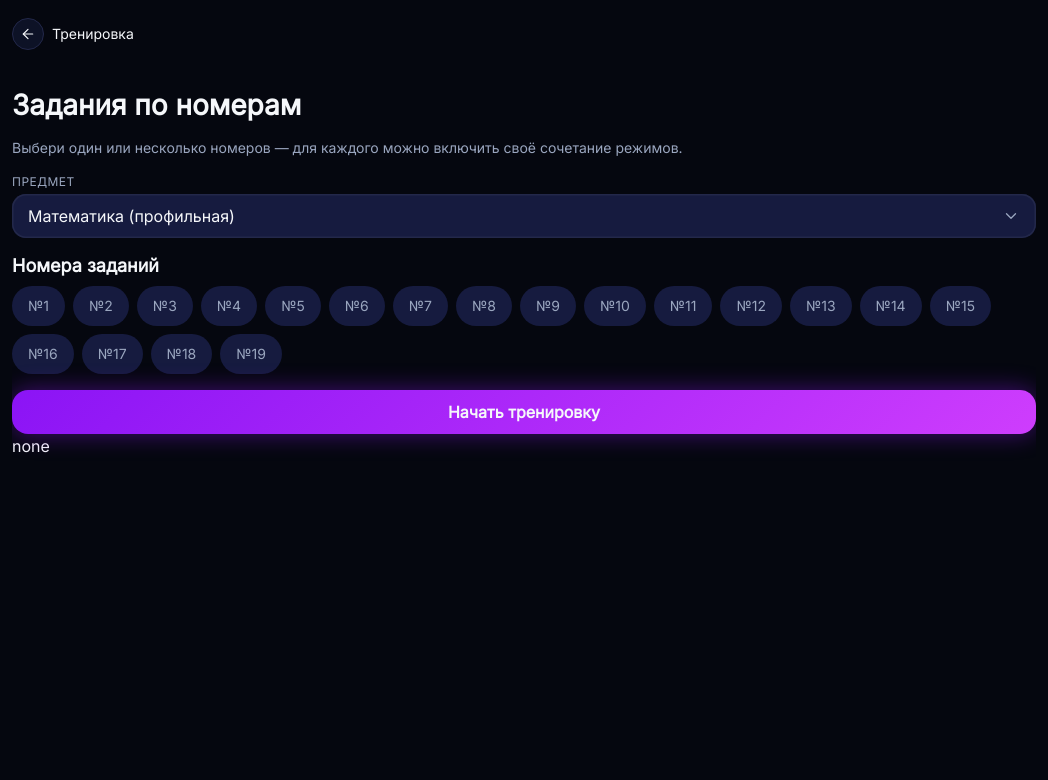
Test case: TrainingByNumber › shows the specific "no unseen tasks" message for that number, never silently substituting a random task
Click the button "№5" at (293, 306), box left=265, top=286, right=321, bottom=326
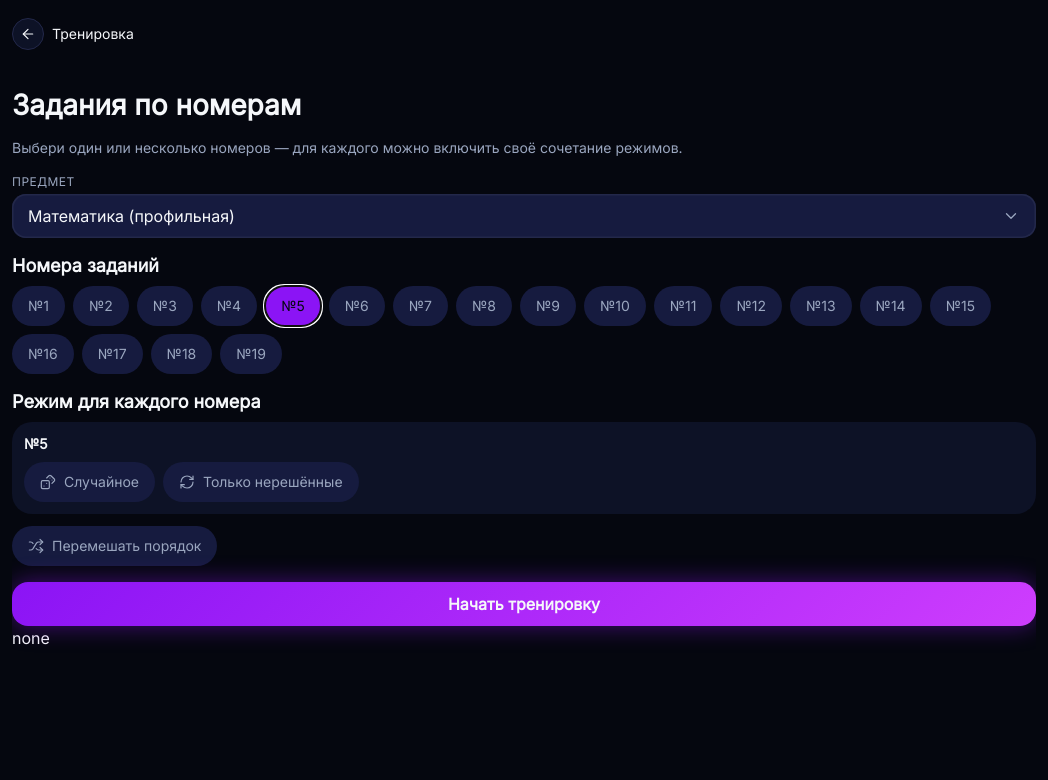
Click the button "Только нерешённые" at (261, 482), box left=163, top=462, right=359, bottom=502
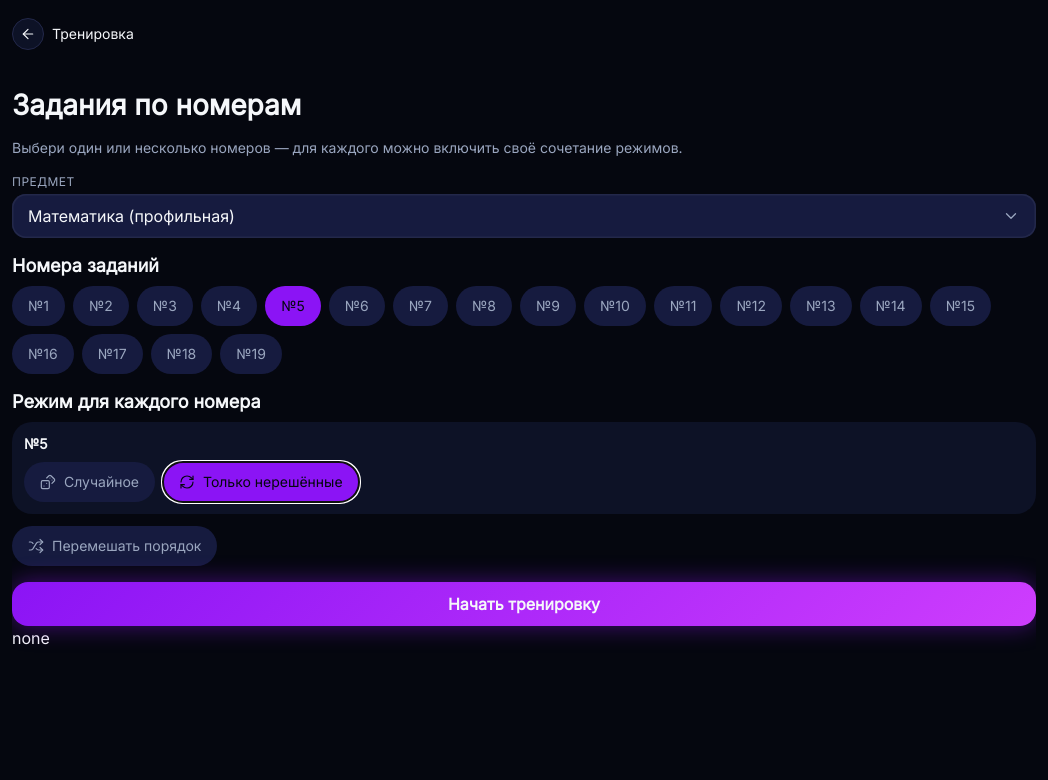
Click the button "Начать тренировку" at (524, 604), box left=12, top=582, right=1036, bottom=626
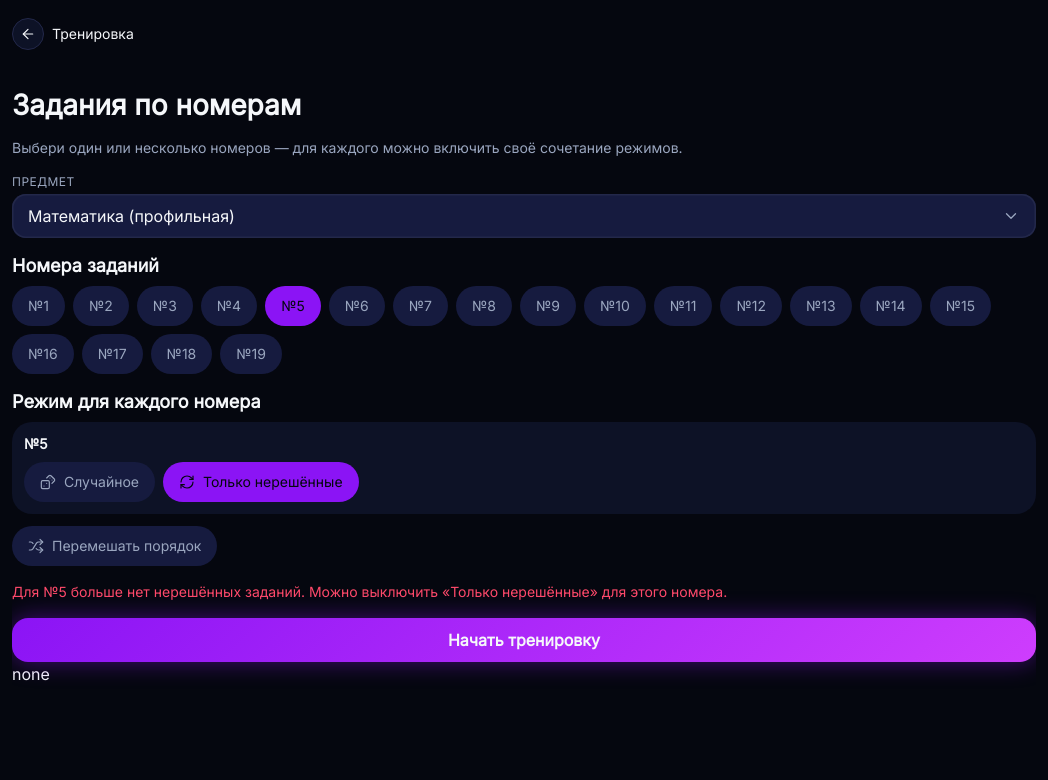
Result: the text "Для №5 больше нет нерешённых заданий. Можно выключить «Только нерешённые» для этого номера." is shown at left=12, top=583, right=727, bottom=600
